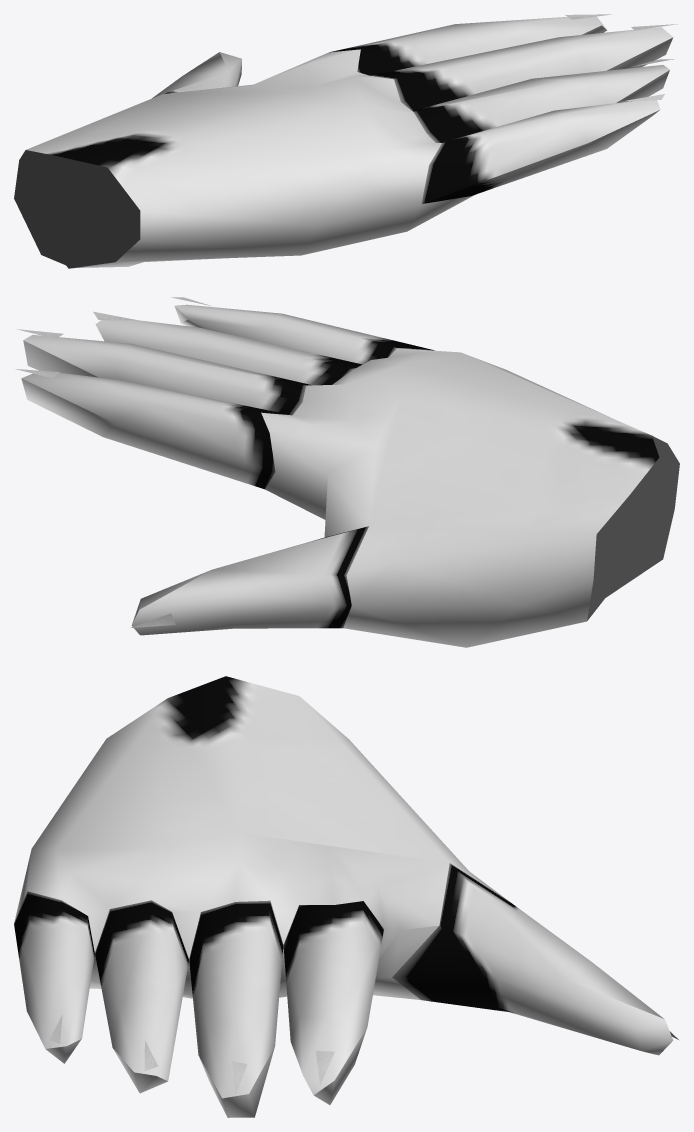
Rendered from right-hand.glb.
The picture shows the model from 3 angles, top to bottom: view 1: azimuth 30°, elevation 25°; view 2: azimuth 150°, elevation 25°; view 3: azimuth 270°, elevation 25°; orthographic projection. The views are drawn at different scales.
Parts seen in each view (by area): view 1: RightHand; view 2: RightHand; view 3: RightHand.
Boxes of the visible parts, x1,y1,x2,y2 form: RightHand: (14,14,677,268); RightHand: (15,297,679,647); RightHand: (14,676,678,1117).
Size of the model in its own units: 0.1725 by 0.0448 by 0.1245.
Materials: 1 (1 with a texture image).
